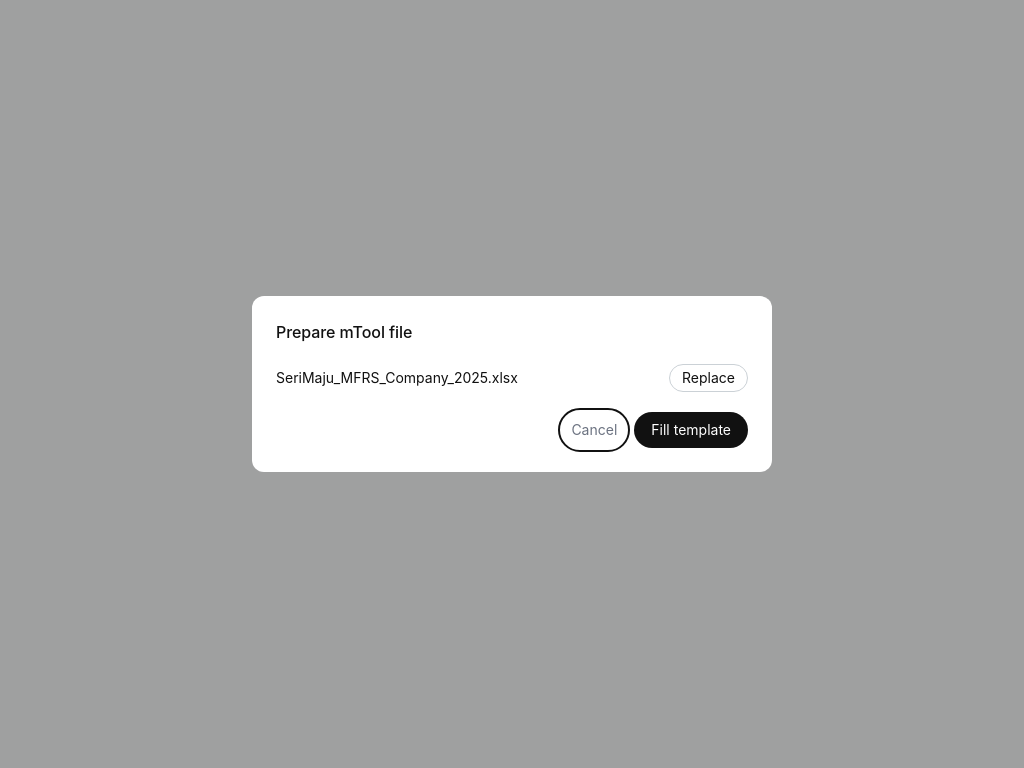
Scenario: Prepare mTool file › shows a failed fill with its sentence and lets the person fill again
Earlier steps of the test are not shown.
Click the button "Fill template". click: (691, 430)
box: [634,412,748,448]
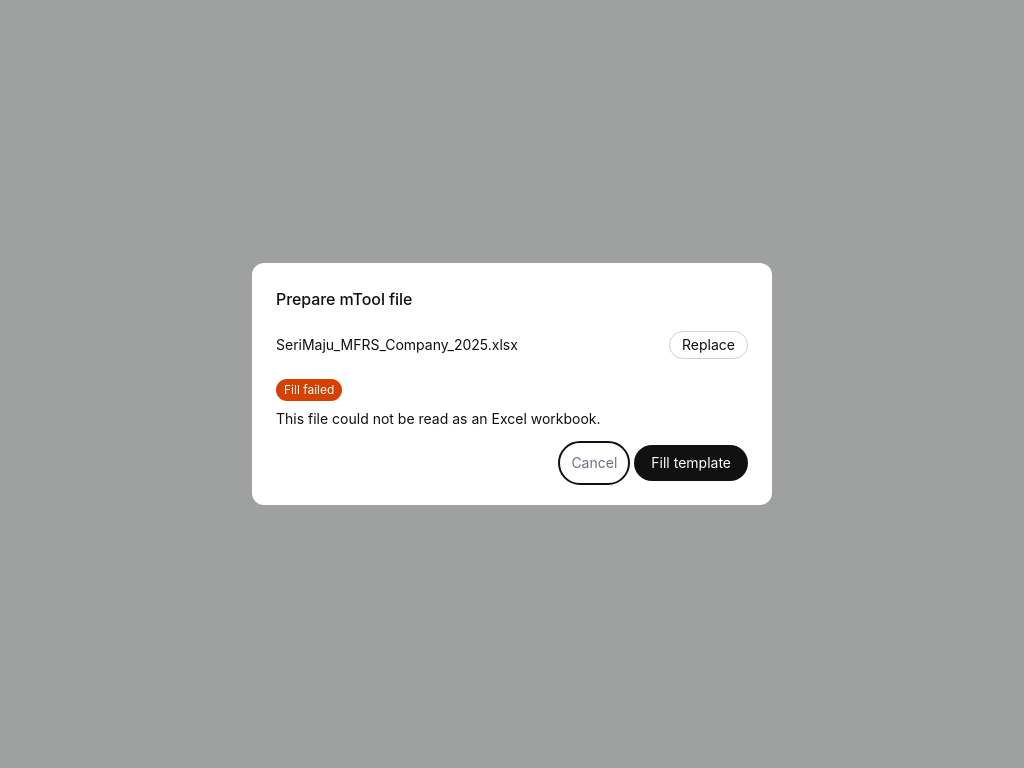
Check: the button "Fill template" is enabled, box [634,445,748,481]
Check: the text "This file could not be read as an Excel workbook." is shown, box [276,409,601,429]
